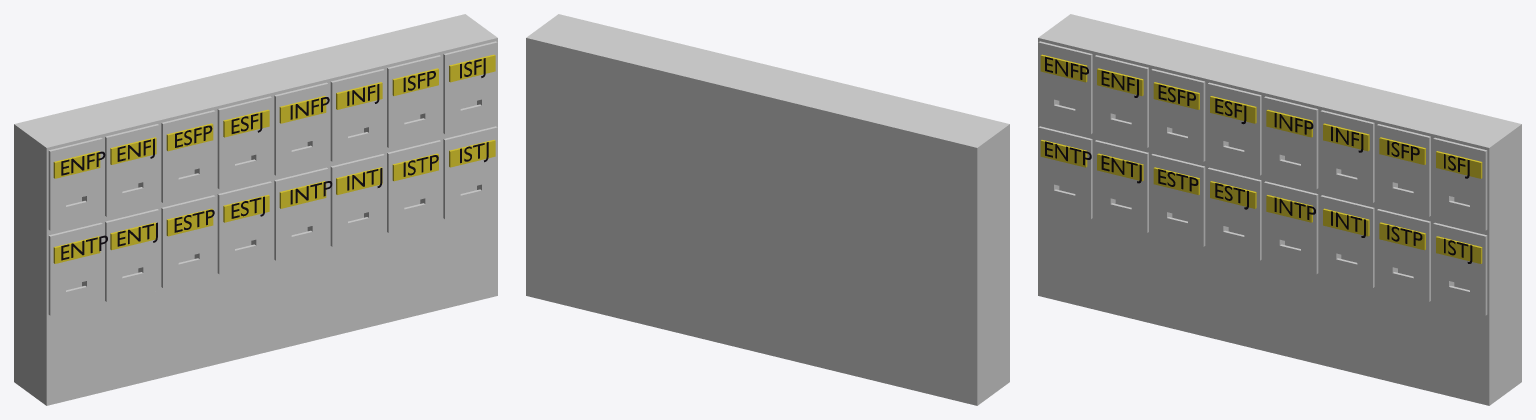
File: MBTI.fbx
3 views of the same model, side by side, from view 1: azimuth 30°, elevation 25°; view 2: azimuth 150°, elevation 25°; view 3: azimuth 330°, elevation 25° (orthographic).
Parts seen in each view (by area): view 1: Cube, Cube.009, Cube.014, Cube.010, Cube.017, Cube.006, Cube.015, Cube.008, Cube.002, Cube.016, Cube.005, Cube.004 (+5 smaller); view 2: Cube; view 3: Cube, Cube.017, Cube.009, Cube.016, Cube.005, Cube.014, Cube.006, Cube.008, Cube.013, Cube.007, Cube.012, Cube.011 (+5 smaller).
Part boxes in pixels (bbox=[...]): Cube: bbox=[14, 14, 497, 405]; Cube.009: bbox=[449, 54, 495, 82]; Cube.014: bbox=[279, 181, 326, 208]; Cube.010: bbox=[53, 236, 100, 263]; Cube.017: bbox=[449, 139, 495, 167]; Cube.006: bbox=[279, 96, 326, 123]; Cube.015: bbox=[336, 167, 382, 194]; Cube.008: bbox=[392, 68, 438, 95]; Cube.002: bbox=[53, 151, 100, 178]; Cube.016: bbox=[392, 153, 438, 181]; Cube.005: bbox=[223, 109, 269, 137]; Cube.004: bbox=[166, 123, 213, 151]; Cube: bbox=[526, 14, 1009, 405]; Cube: bbox=[1038, 14, 1521, 405]; Cube.017: bbox=[1436, 236, 1482, 263]; Cube.009: bbox=[1436, 151, 1482, 178]; Cube.016: bbox=[1379, 222, 1425, 250]; Cube.005: bbox=[1210, 96, 1256, 123]; Cube.014: bbox=[1266, 195, 1312, 222]; Cube.006: bbox=[1266, 109, 1312, 137]; Cube.008: bbox=[1379, 137, 1425, 164]; Cube.013: bbox=[1210, 181, 1256, 208]; Cube.007: bbox=[1323, 123, 1369, 151]; Cube.012: bbox=[1153, 167, 1199, 195]; Cube.011: bbox=[1097, 153, 1143, 181].
Bounding box in the file's own units: 1600 × 874 × 223.
